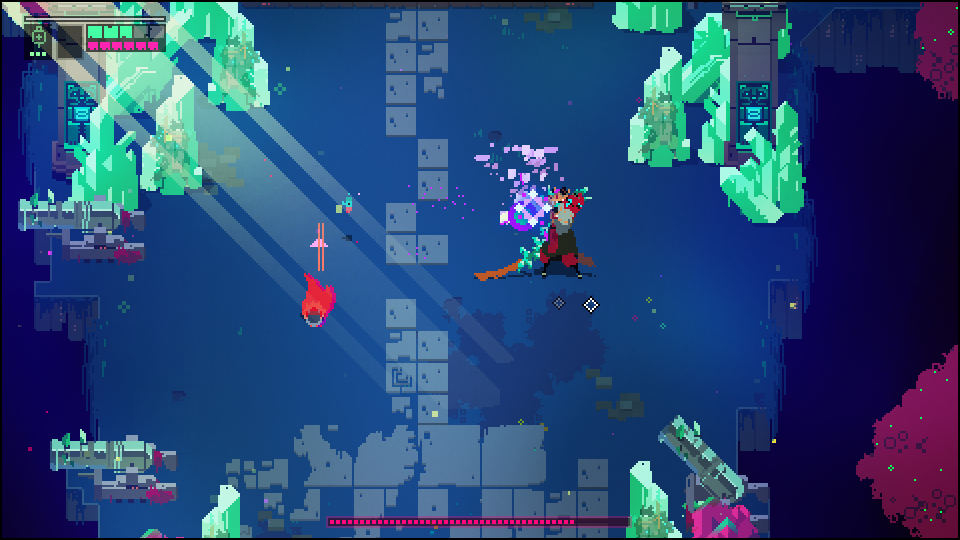hanged_man: (508, 182, 603, 287)
hanged_shot: (506, 201, 539, 233)
player: (299, 269, 340, 332)
